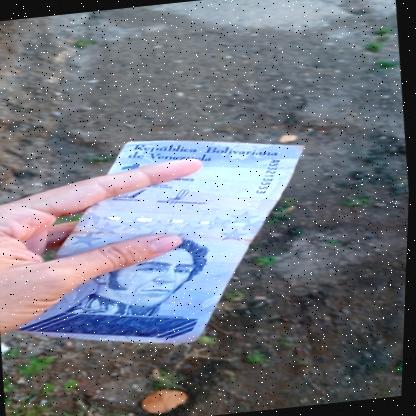ten-front-vef: (0, 124, 325, 362)
